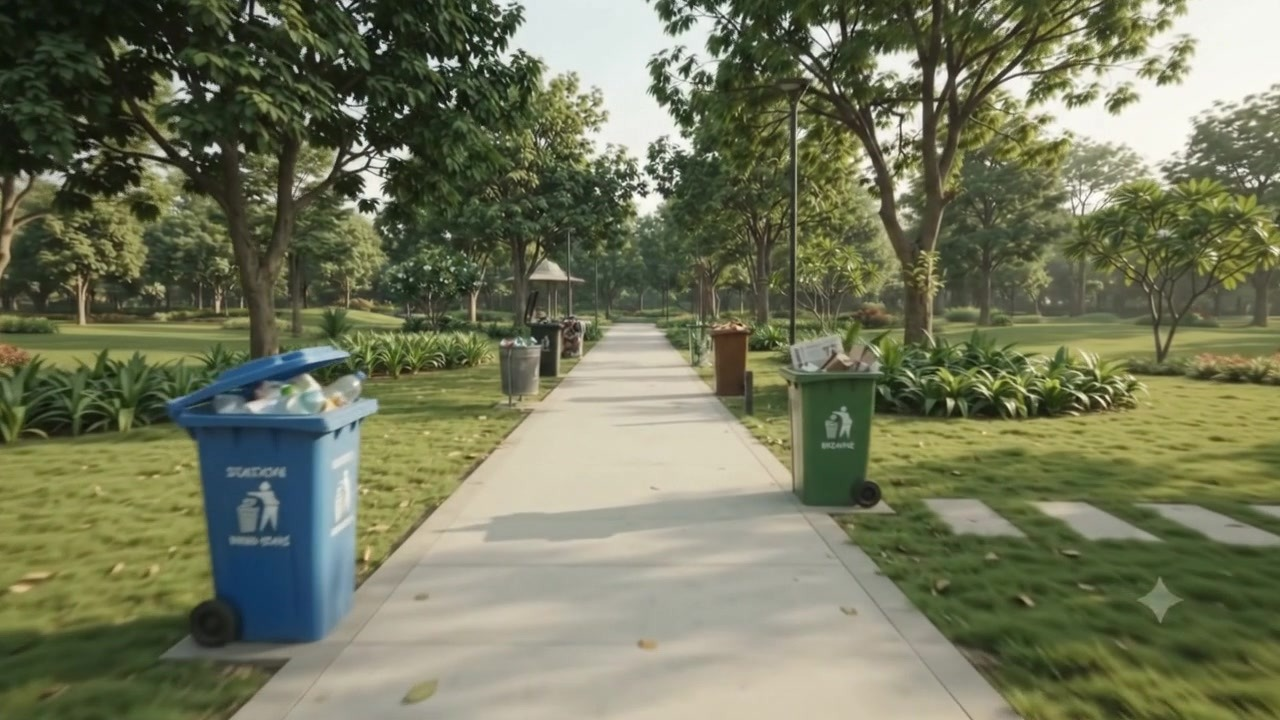plastic: (179, 346, 384, 641)
